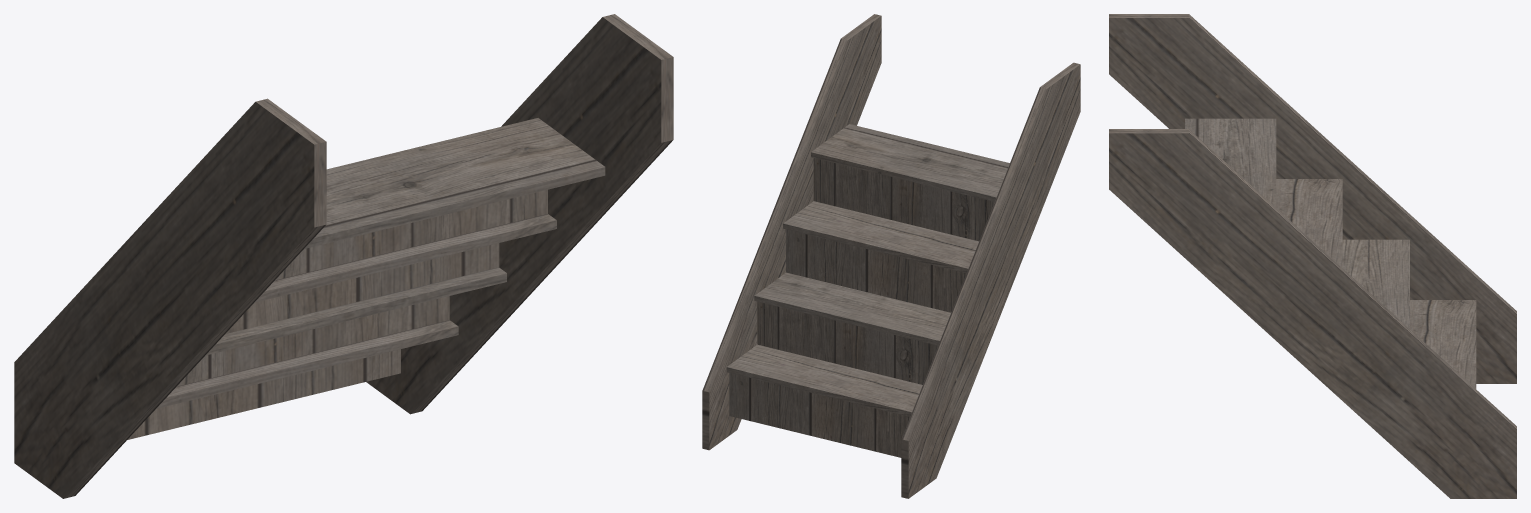
The model's file is woodstair01b2.fbx.
3 views of the same model, side by side, from view 1: azimuth 30°, elevation 25°; view 2: azimuth 150°, elevation 25°; view 3: azimuth 270°, elevation 25° (orthographic). The views are drawn at different scales.
Parts seen in each view (by area): view 1: woodstair01b2; view 2: woodstair01b2; view 3: woodstair01b2.
Part boxes in pixels (x1,y1,x2,y2): woodstair01b2: [14, 14, 673, 498]; woodstair01b2: [702, 14, 1080, 498]; woodstair01b2: [1109, 14, 1516, 498].
Bounding box in the file's own units: 110 × 157 × 159.
